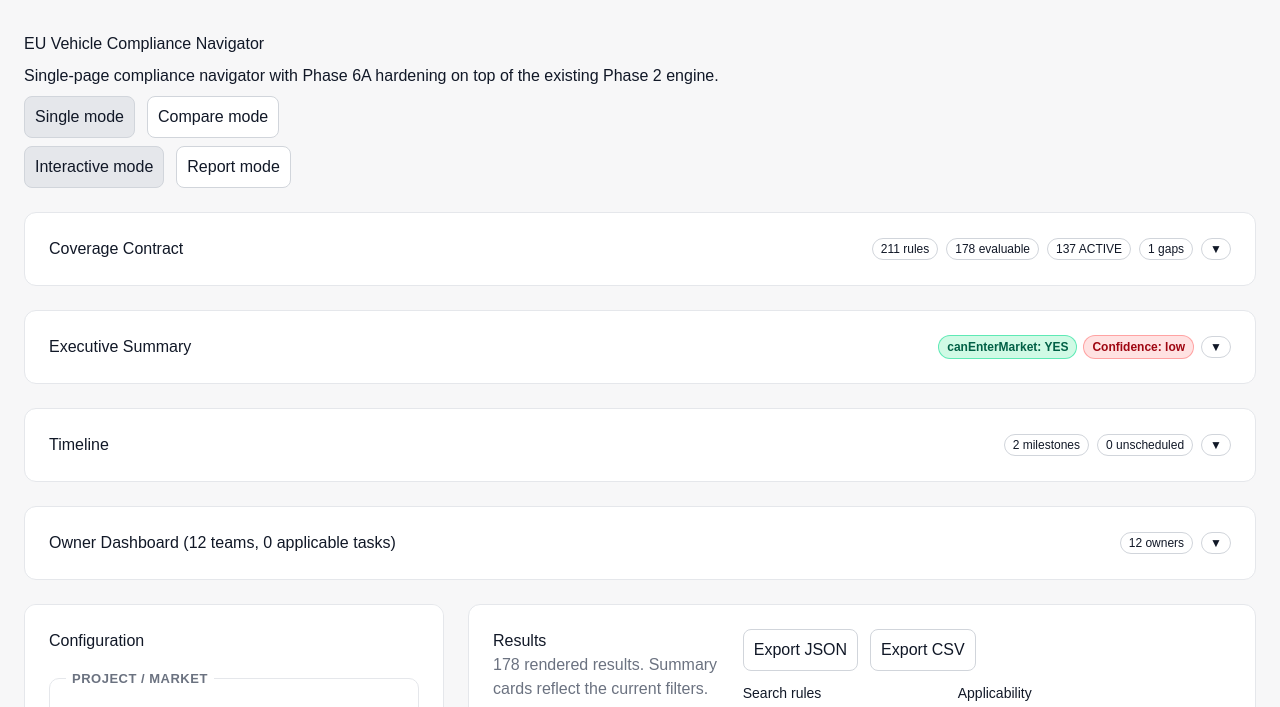
Test: Phase 5A report mode › toggles from interactive mode to report mode and reduces interactive controls
This screenshot has width=1280, height=707.
Expected: the button "Export JSON" is shown, left=743, top=629, right=858, bottom=671
Click the button "Report mode" at (234, 167), box left=176, top=146, right=291, bottom=188
(page scrolled)
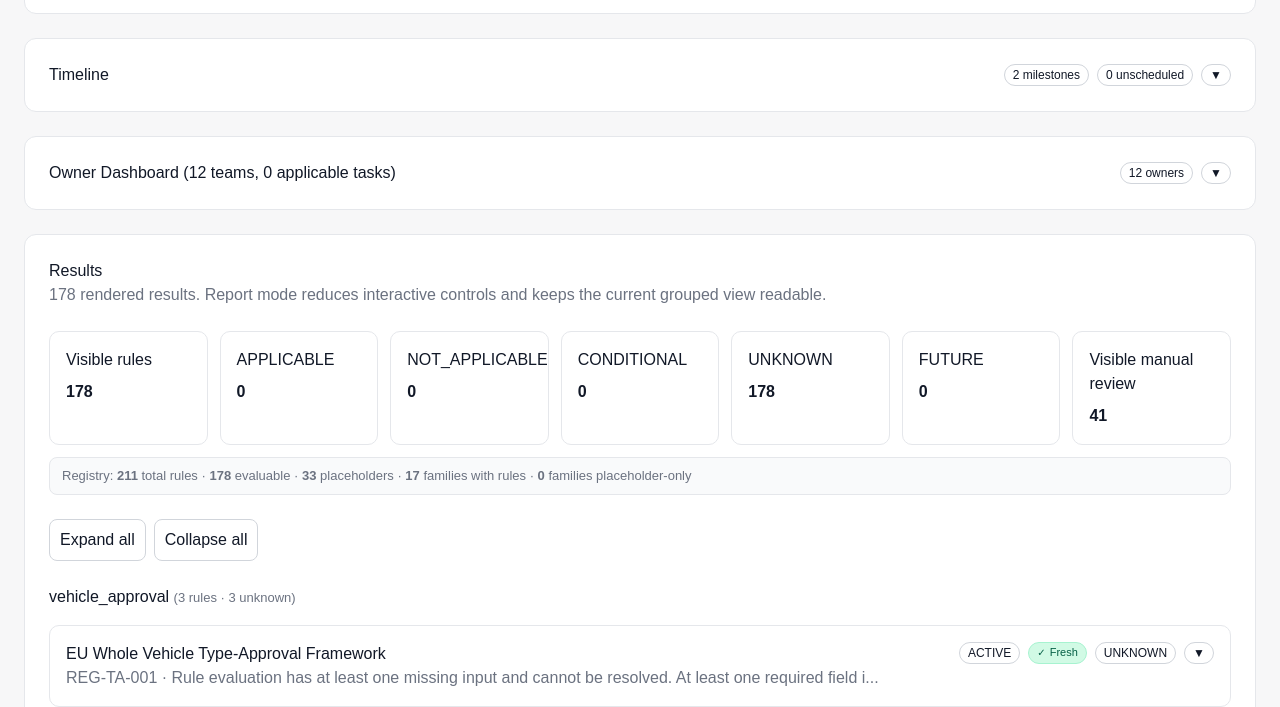
Expected: the text "Visible rules" is shown, left=66, top=351, right=152, bottom=368
Expected: the button "Export JSON" is gone
